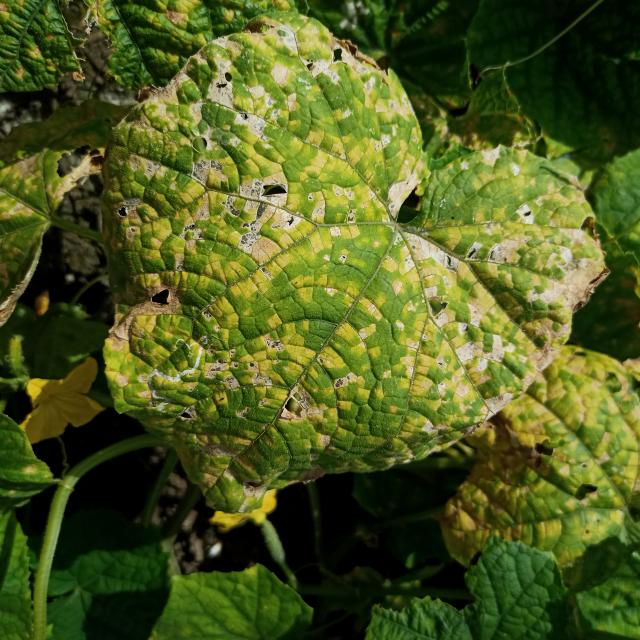disease_cucumber: (102, 31, 580, 503), (446, 354, 639, 586)
